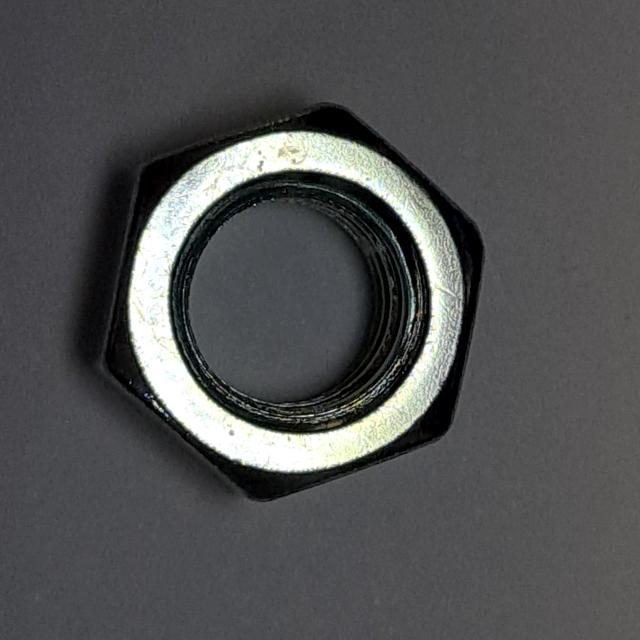Excellent: (75, 87, 493, 517)
